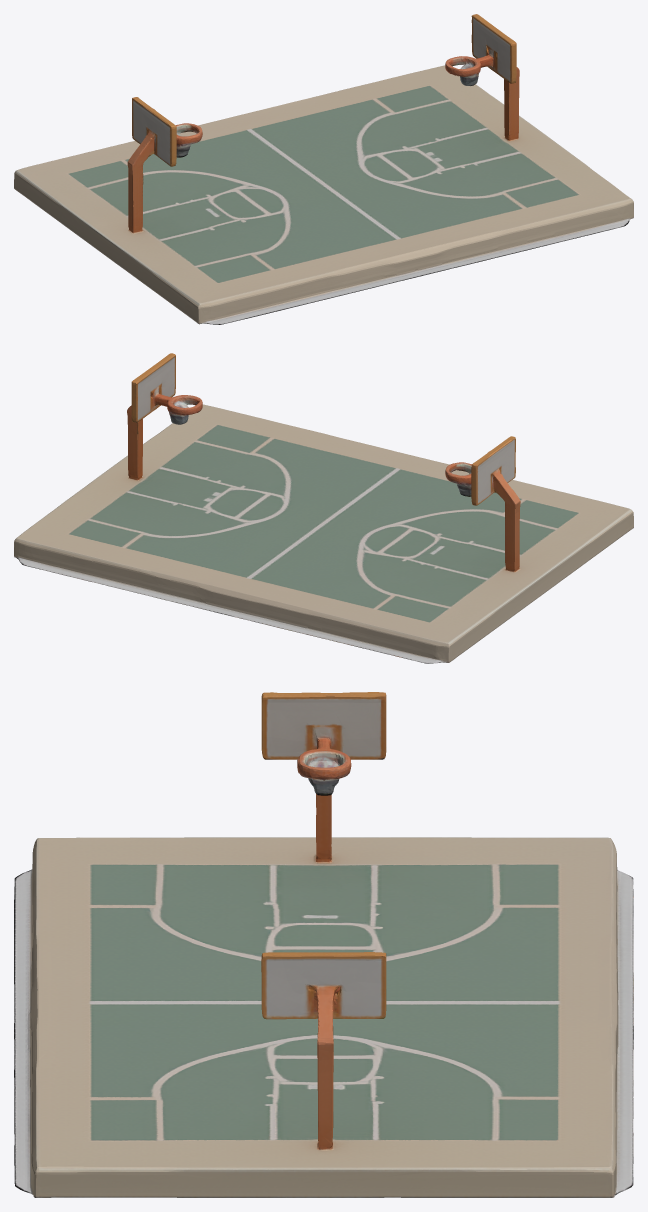
File: basketballcourt.glb
3 renders of one model, top to bottom at view 1: azimuth 30°, elevation 25°; view 2: azimuth 150°, elevation 25°; view 3: azimuth 270°, elevation 25°, orthographic. The views are drawn at different scales.
Visible parts, largest first — view 1: world; view 2: world; view 3: world.
Part boxes in pixels (box(x1,y1,x2,y2)): world: box(14, 14, 633, 324); world: box(14, 353, 633, 663); world: box(14, 692, 633, 1197).
Bounding box in the file's own units: 1 × 0.2927 × 0.7885.
1 material, 1 textured.
